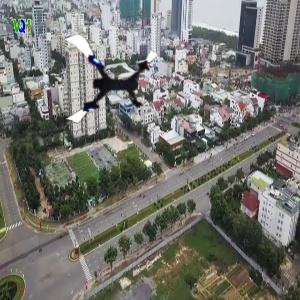drone: (54, 35, 155, 136)
